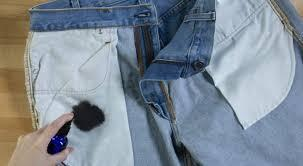ink: (74, 103, 106, 133)
